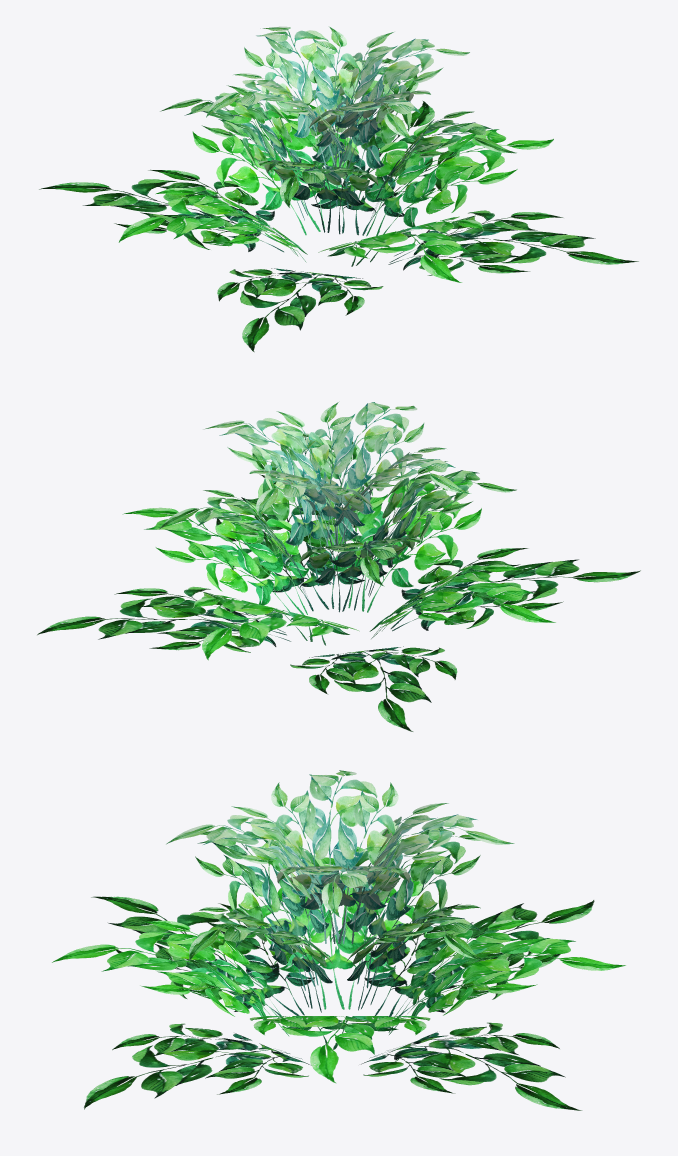
The model's file is bush.fbx.
3 renders of one model, top to bottom at view 1: azimuth 30°, elevation 25°; view 2: azimuth 150°, elevation 25°; view 3: azimuth 270°, elevation 25°, orthographic. The views are drawn at different scales.
Parts seen in each view (by area): view 1: group3_group1_bottom4; view 2: group3_group1_bottom4; view 3: group3_group1_bottom4.
Part boxes in pixels (<box>): group3_group1_bottom4: <box>39,26,638,352</box>; group3_group1_bottom4: <box>37,401,640,731</box>; group3_group1_bottom4: <box>52,770,625,1110</box>.
Bounding box in the file's own units: 2.17 × 0.778 × 2.17.
